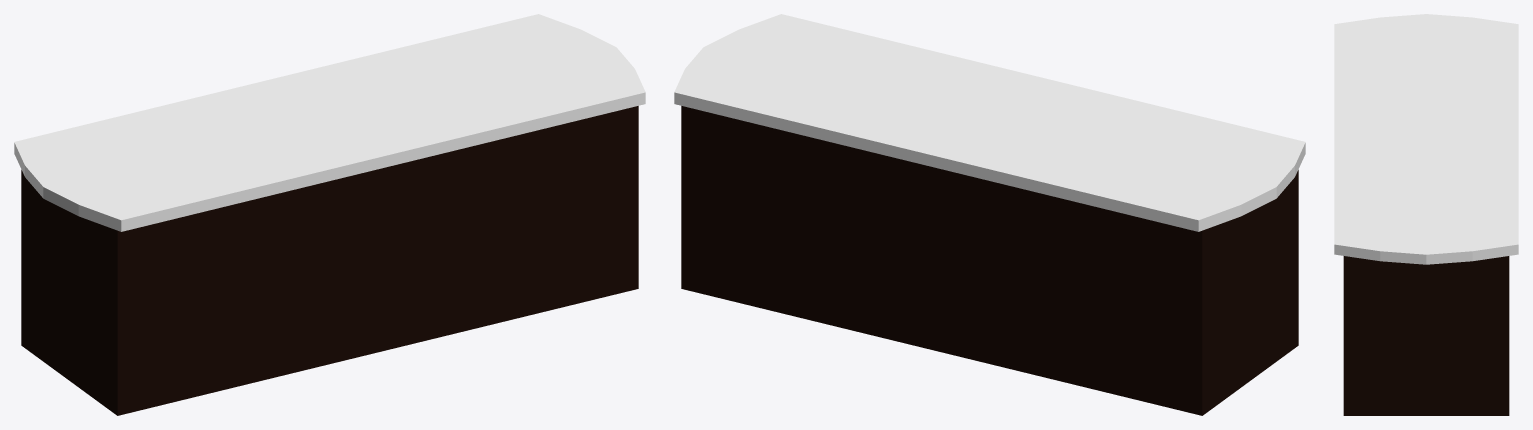
Rendered from KitchenIsland 1.fbx.
3 renders of one model, left to right at view 1: azimuth 30°, elevation 25°; view 2: azimuth 150°, elevation 25°; view 3: azimuth 270°, elevation 25°, orthographic. The views are drawn at different scales.
Parts seen in each view (by area): view 1: KitchenIsland; view 2: KitchenIsland; view 3: KitchenIsland.
Part boxes in pixels (x1=…): KitchenIsland: x1=14, y1=14, x2=645, y2=415; KitchenIsland: x1=674, y1=14, x2=1305, y2=415; KitchenIsland: x1=1334, y1=14, x2=1518, y2=415.
Size of the model in its own units: 510 by 170 by 165.
